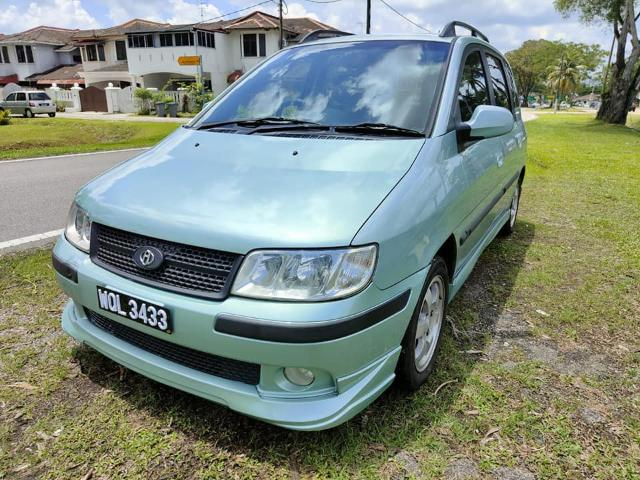License_Plate: (92, 283, 176, 345)
car: (53, 16, 533, 432)
